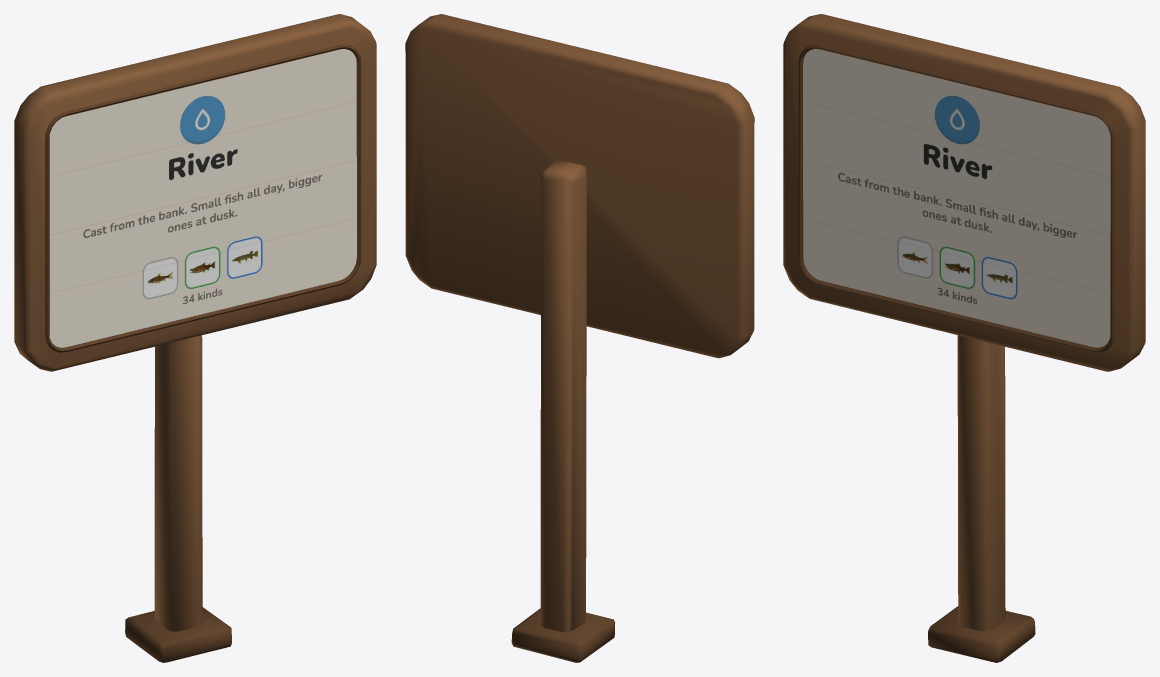
Rendered from water-sign-river.glb.
3 views of the same model, side by side, from view 1: azimuth 30°, elevation 25°; view 2: azimuth 150°, elevation 25°; view 3: azimuth 330°, elevation 25° (orthographic). The views are drawn at different scales.
Parts seen in each view (by area): view 1: water-sign-river; view 2: water-sign-river; view 3: water-sign-river.
Part boxes in pixels (bbox=[...]): water-sign-river: bbox=[14, 14, 376, 662]; water-sign-river: bbox=[405, 14, 754, 662]; water-sign-river: bbox=[783, 14, 1145, 662].
Size of the model in its own units: 1.15 by 1.87 by 0.253.
Materials: 2 (1 with a texture image).
